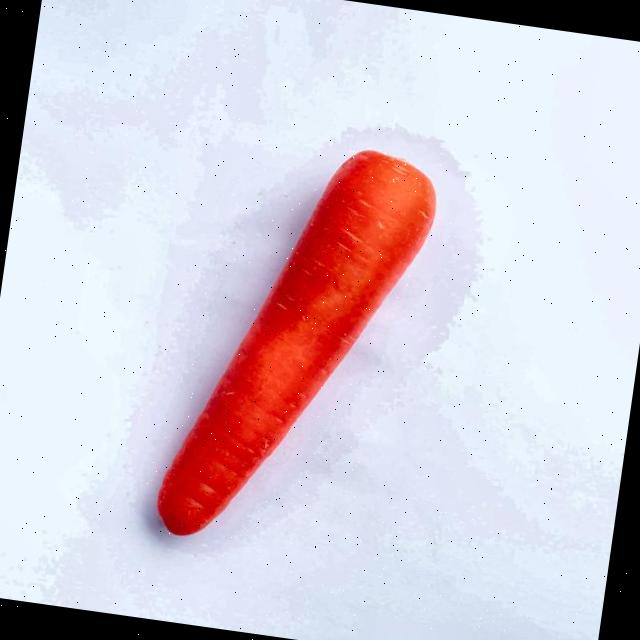carrot: (157, 151, 436, 535)
